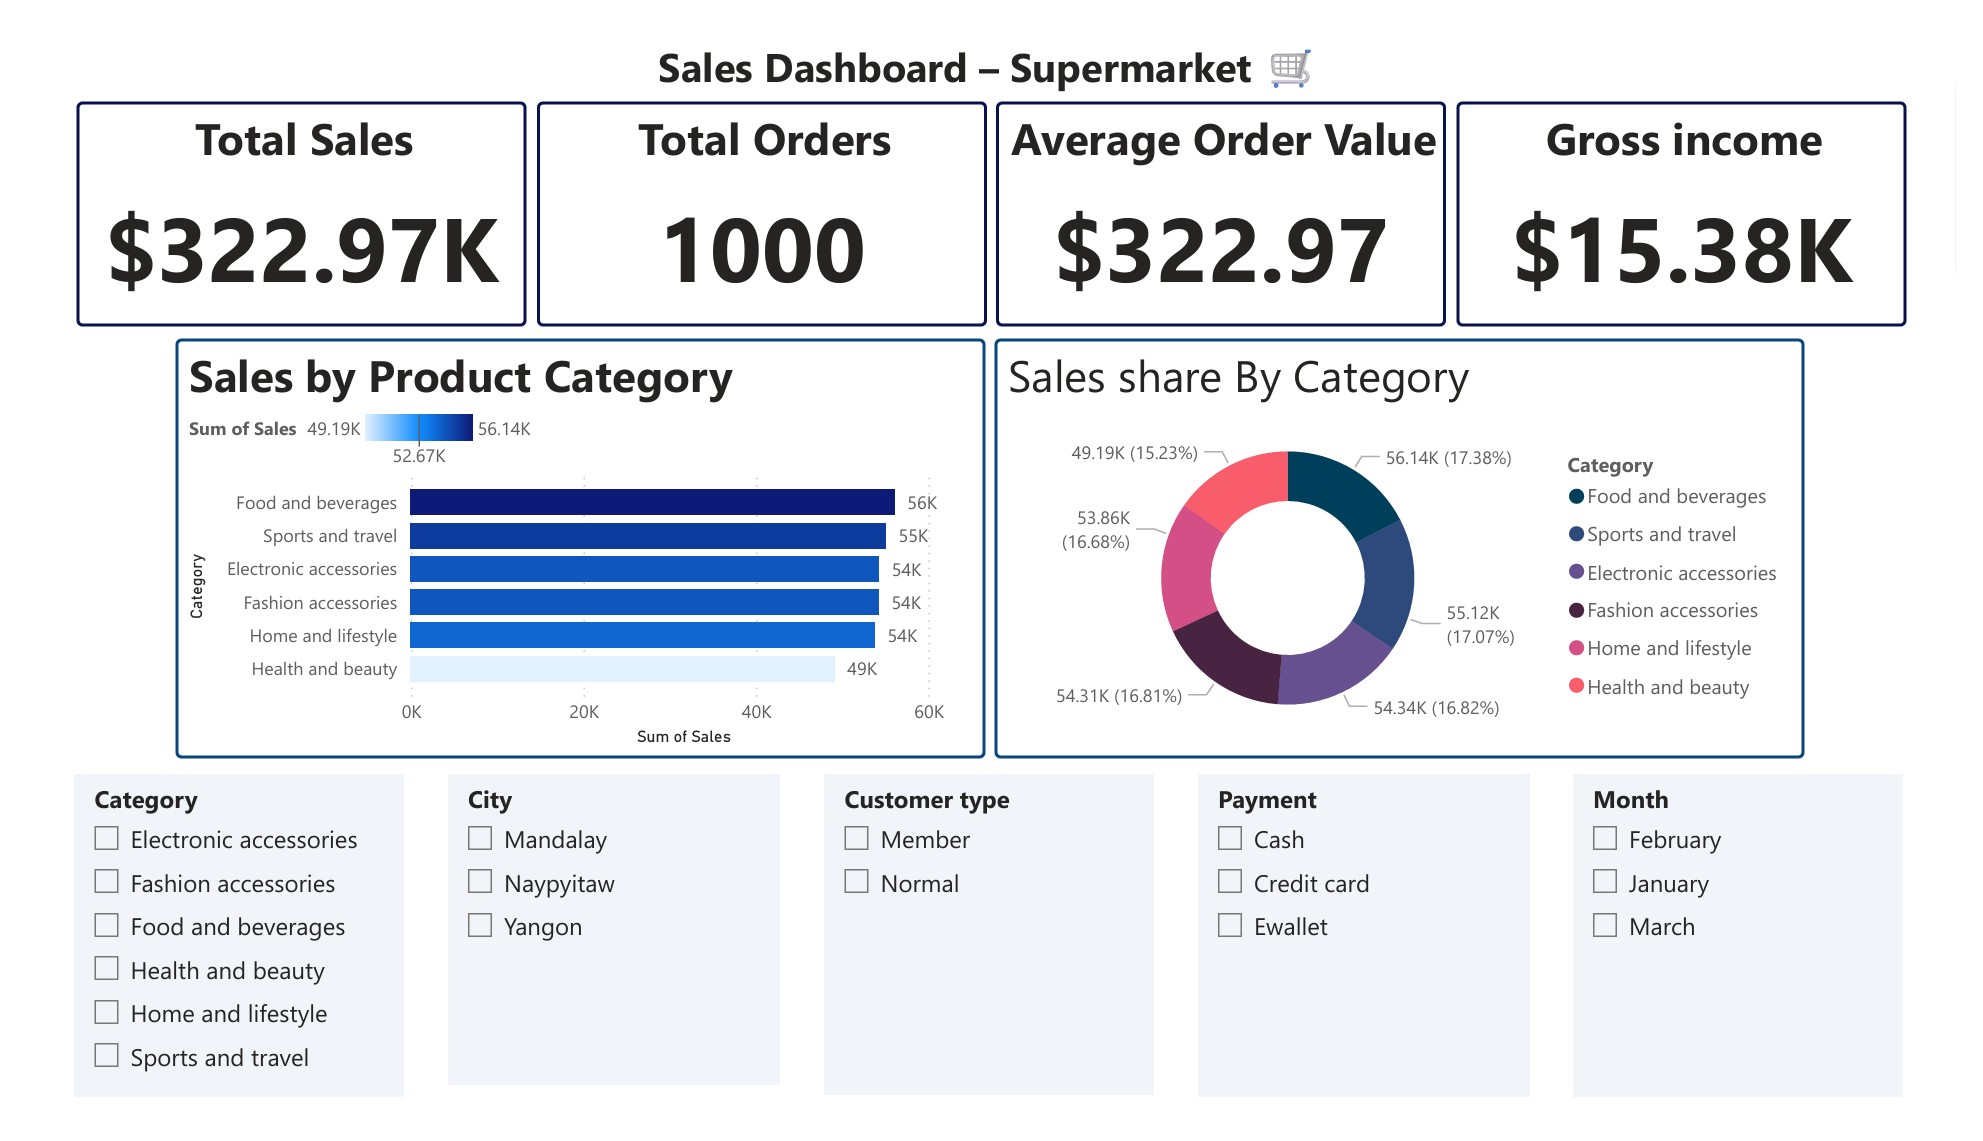

The dashboard page shown, as its layout file describes it:
{"tool":"powerbi","page":{"name":"Page 1","canvas":[1280,720],"ordinal":0},"visuals":[{"type":"card","title":"Total Sales","fields":{"Values":["Sum(supermarket_sales_cleaned.Sales)"]},"box":[27.5,47.3,300,150],"z":0},{"type":"card","title":"Total Orders","fields":{"Values":["Count(supermarket_sales_cleaned.Invoice ID)"]},"box":[333.9,47.3,300,150],"z":1000},{"type":"card","title":"Average Order Value","fields":{"Values":["Avg(supermarket_sales_cleaned.Sales)"]},"box":[640.3,47.3,300,150],"z":2000},{"type":"card","title":"Gross income","fields":{"Values":["Sum(supermarket_sales_cleaned.gross_income)"]},"box":[946.8,47.3,300,150],"z":3000},{"type":"barChart","title":"Sales by Product Category","fields":{"Category":["supermarket_sales_cleaned.Category"],"Y":["Sum(supermarket_sales_cleaned.Sales)"]},"box":[93,205,540,280],"z":4000},{"type":"donutChart","title":"Sales share By Category","fields":{"Category":["supermarket_sales_cleaned.Category"],"Y":["Sum(supermarket_sales_cleaned.Sales)"]},"box":[639,205,540,280],"z":5000},{"type":"slicer","fields":{"Values":["supermarket_sales_cleaned.Category"]},"box":[26,496,220,215],"z":6000},{"type":"slicer","fields":{"Values":["supermarket_sales_cleaned.City"]},"box":[275.2,496,221,207],"z":7000},{"type":"slicer","fields":{"Values":["supermarket_sales_cleaned.Customer type"]},"box":[525.5,496,220,214],"z":8000},{"type":"slicer","fields":{"Values":["supermarket_sales_cleaned.Payment"]},"box":[774.8,496,221,215],"z":9000},{"type":"slicer","fields":{"Values":["supermarket_sales_cleaned.Month"]},"box":[1025,496,220,215],"z":10000},{"type":"textbox","box":[410,0,468,47],"z":10001}]}

Visuals, with their boxes in screenshot pixels (x1, y1, x2, y2), scaled from the page's 1280x720 canvas onto the 1983x1141 screenshot:
"Total Sales" card: box(43, 75, 507, 313)
"Total Orders" card: box(517, 75, 982, 313)
"Average Order Value" card: box(992, 75, 1457, 313)
"Gross income" card: box(1467, 75, 1932, 313)
"Sales by Product Category" barChart: box(144, 325, 981, 769)
"Sales share By Category" donutChart: box(990, 325, 1827, 769)
slicer - supermarket_sales_cleaned.Category: box(40, 786, 381, 1127)
slicer - supermarket_sales_cleaned.City: box(426, 786, 769, 1114)
slicer - supermarket_sales_cleaned.Customer type: box(814, 786, 1155, 1125)
slicer - supermarket_sales_cleaned.Payment: box(1200, 786, 1543, 1127)
slicer - supermarket_sales_cleaned.Month: box(1588, 786, 1929, 1127)
textbox: box(635, 0, 1360, 74)
